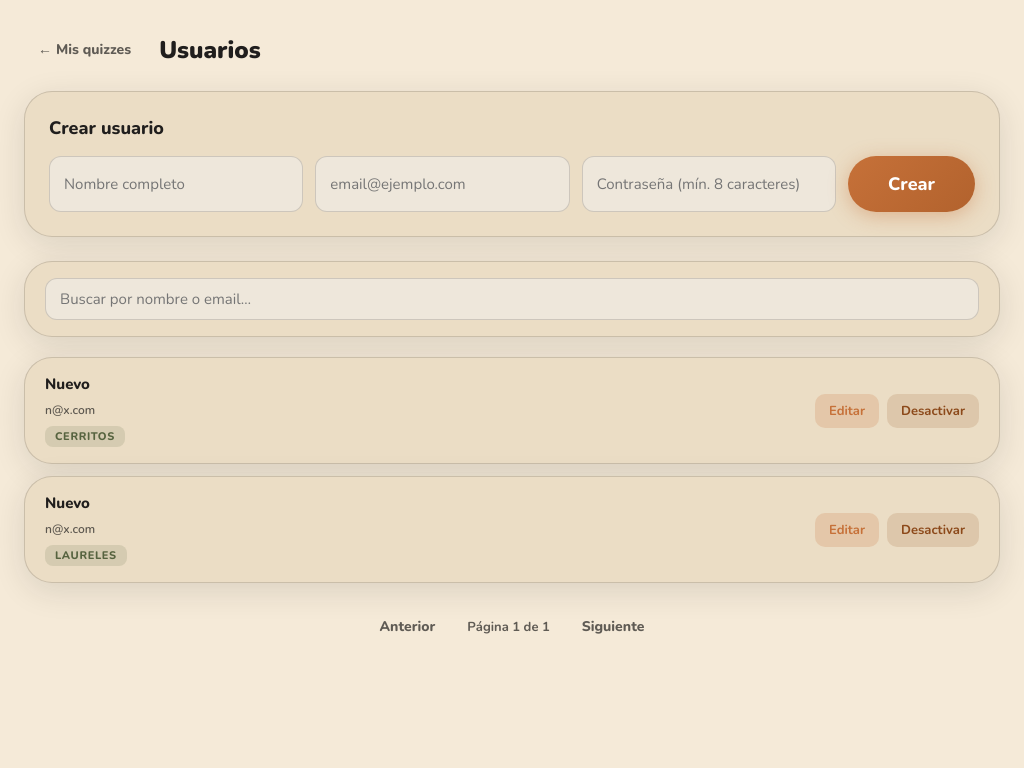
Test: UsersView — create form › refuses to submit a short password and never hits the network
Type "Nuevo" into the field with id "full-name-input". click: (176,184)
box: [49,156,303,212]
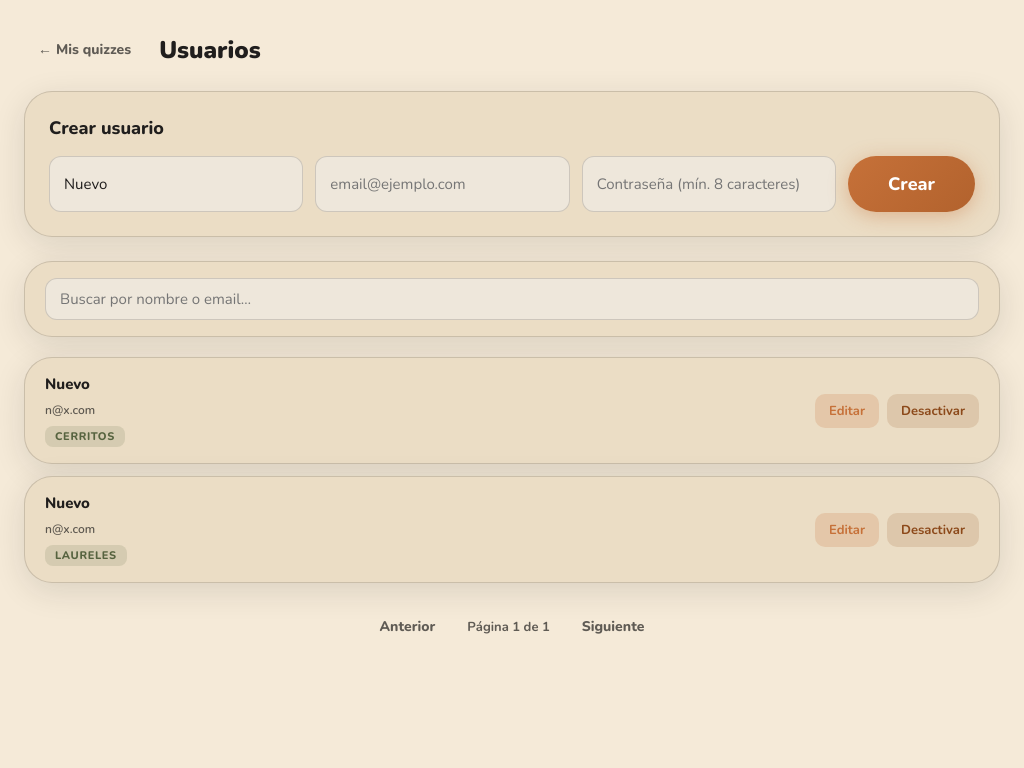
Type "n@x.com" into the field with id "email-input". click: (442,184)
box: [315,156,570,212]
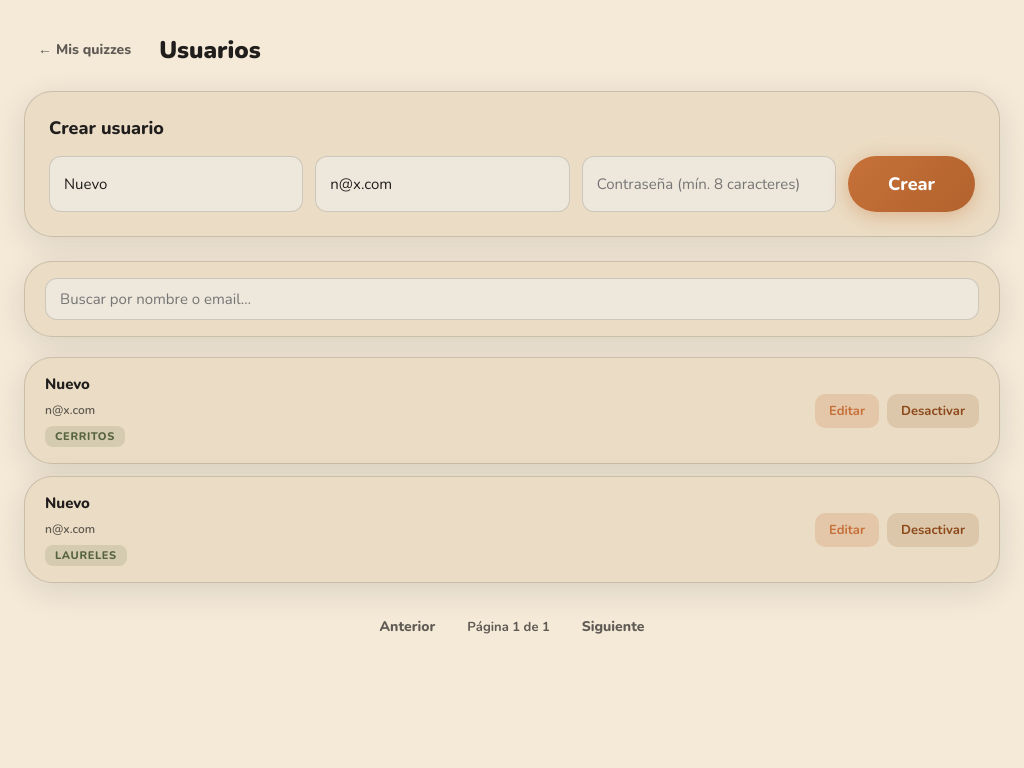
Type "short" into the password field with placeholder "Contraseña (mín. 8 caracteres)". click: (709,184)
box: [582,156,836,212]
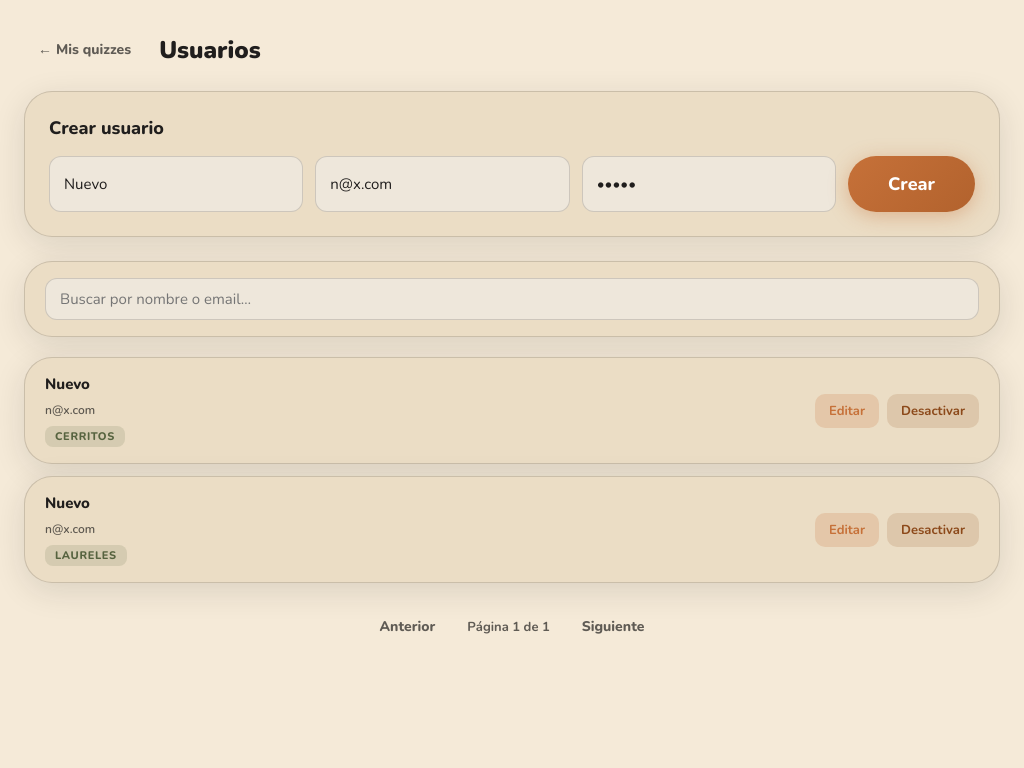
Submit the form, box [49,156,975,212]
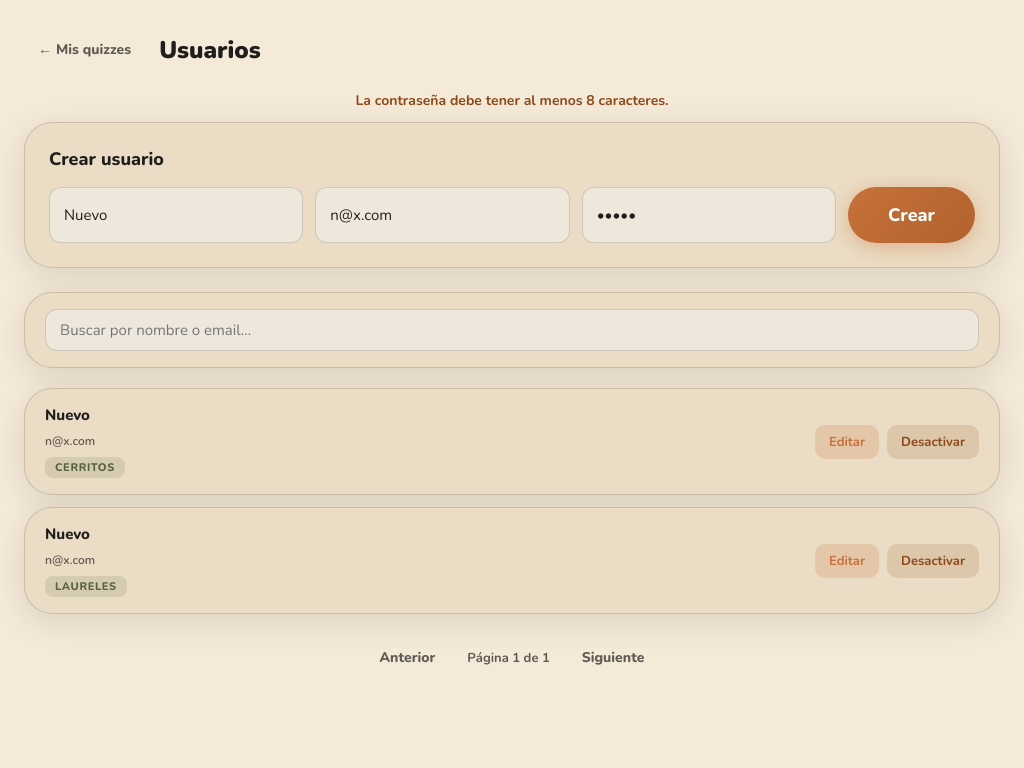
Expected: the message "La contraseña debe tener al menos 8 caracteres." is shown, [355,91,669,110]
